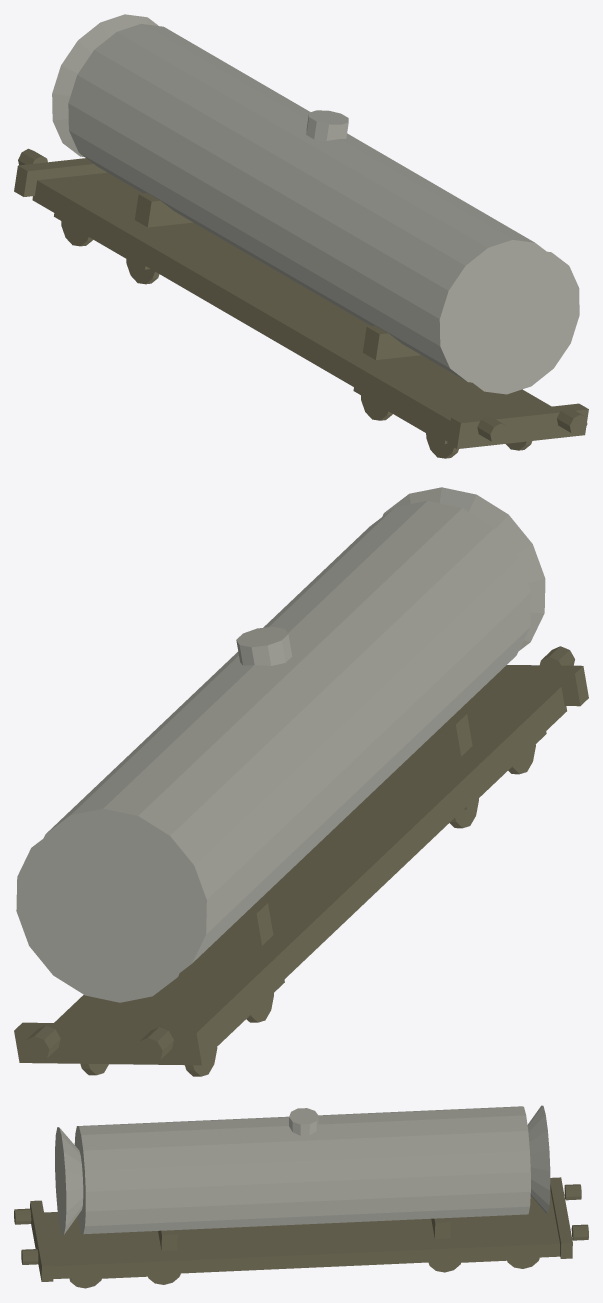
Rendered from SM_VagonAbandonado_v3_Descarrilado_LOD1.fbx.
3 views of the same model, one above another, from view 1: azimuth 30°, elevation 25°; view 2: azimuth 150°, elevation 25°; view 3: azimuth 270°, elevation 25° (orthographic). The views are drawn at different scales.
Parts seen in each view (by area): view 1: SM_vagon_abandonado_v3_LOD1; view 2: SM_vagon_abandonado_v3_LOD1; view 3: SM_vagon_abandonado_v3_LOD1.
Boxes of the visible parts, x1,y1,x2,y2 form: SM_vagon_abandonado_v3_LOD1: (14, 14, 588, 458); SM_vagon_abandonado_v3_LOD1: (14, 487, 588, 1076); SM_vagon_abandonado_v3_LOD1: (14, 1105, 588, 1288).
Bounding box in the file's own units: 4.51 × 4.58 × 14.65.
